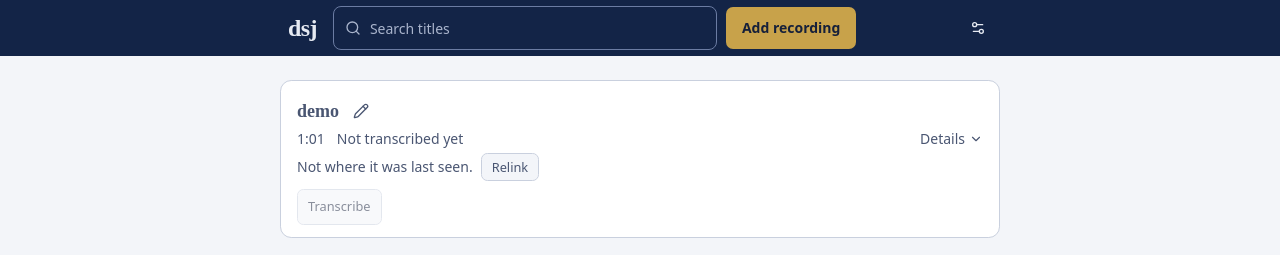
Test case: bringing a recording in (#110) › re-points a missing recording from its row
Click the button "Relink" at point(510, 167), box [481, 153, 539, 181]
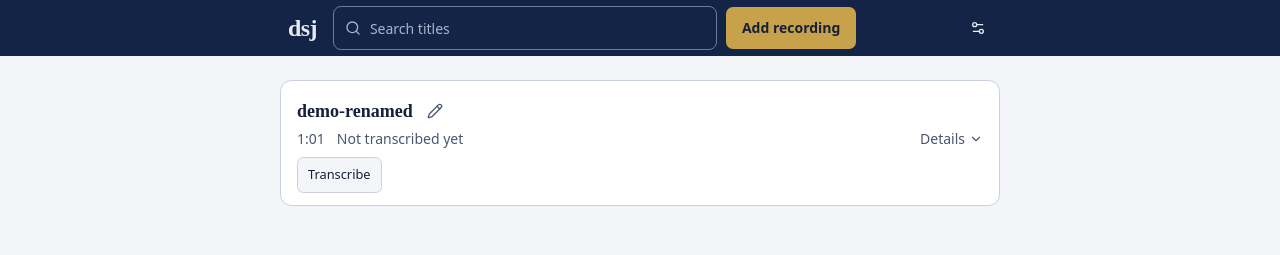
Check: the button "Relink" is gone
